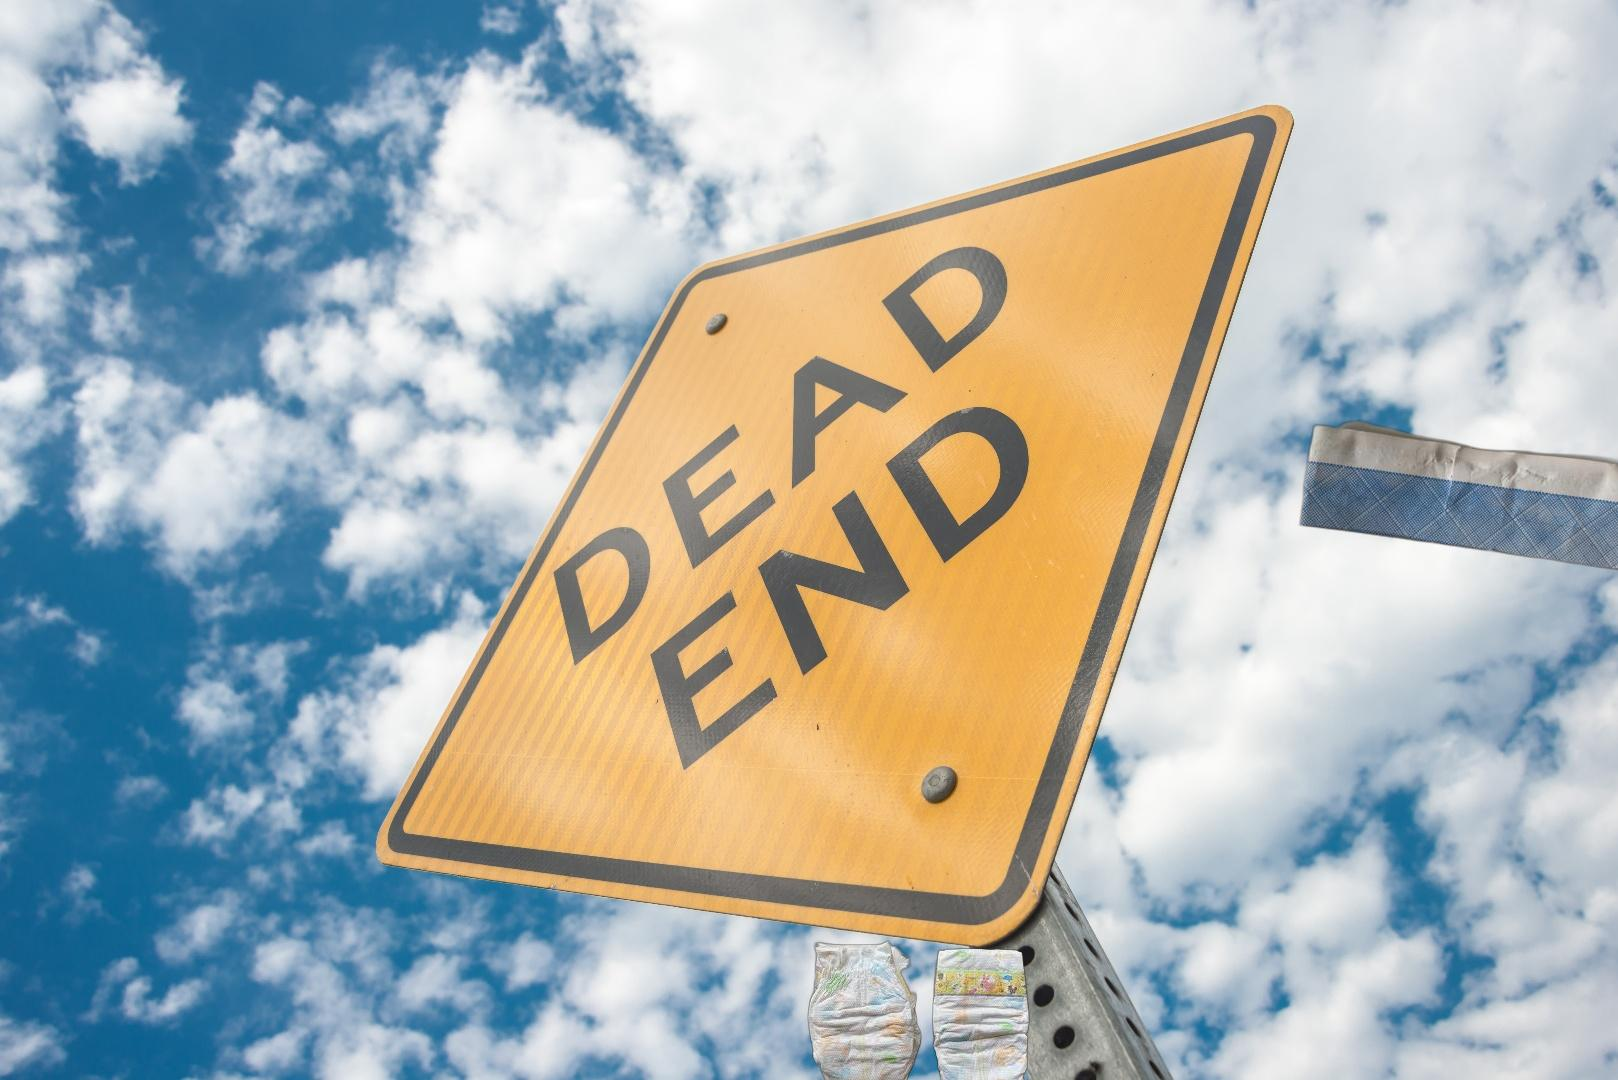paper: (1295, 418, 1618, 587)
trash: (805, 938, 1032, 1080)
trashbox-cardboard: (1083, 1055, 1292, 1080)
